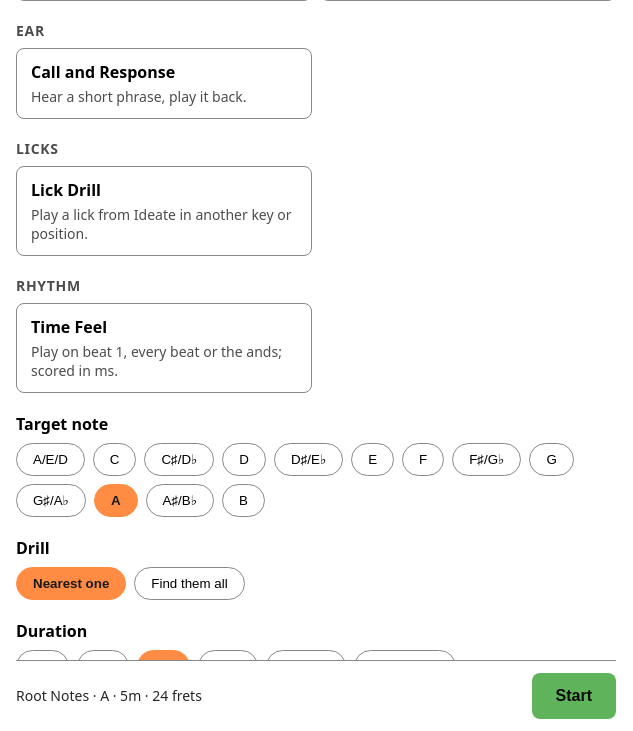
StartScreen — Rhythm › blocks start on an invalid tempo
(page scrolled)
Click the button that starts with "Time Feel" at (164, 348), box x1=16 y1=303 x2=312 y2=393
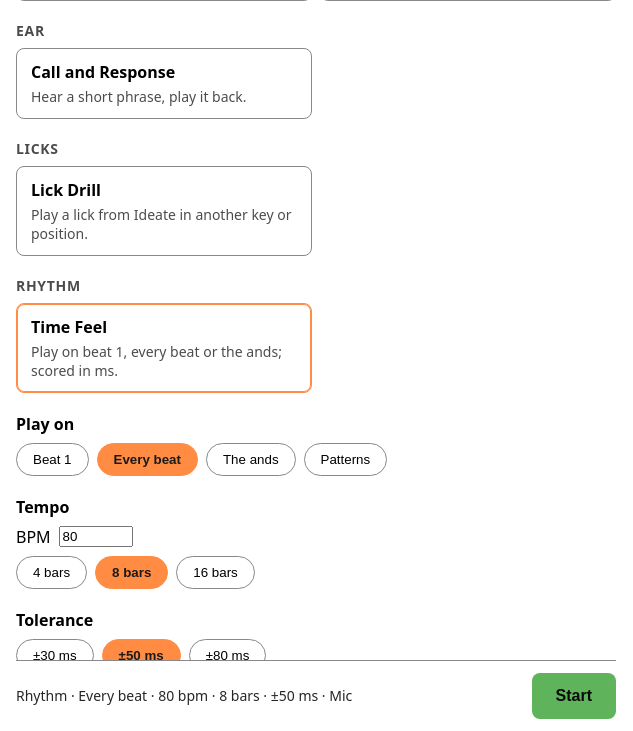
Replace the text in the number field named "BPM" with "300" at (96, 537), box x1=59 y1=526 x2=133 y2=547
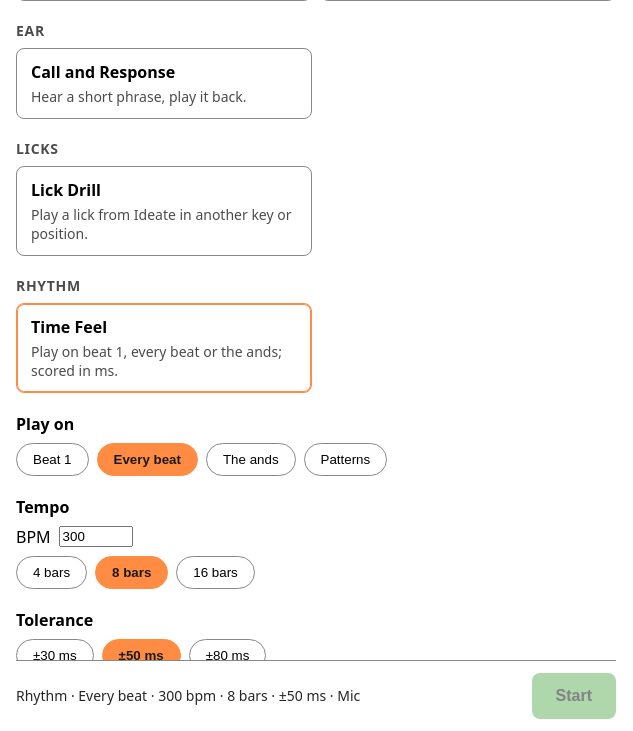
expect the button with class "start-button" is disabled: met, box x1=532 y1=673 x2=616 y2=719
